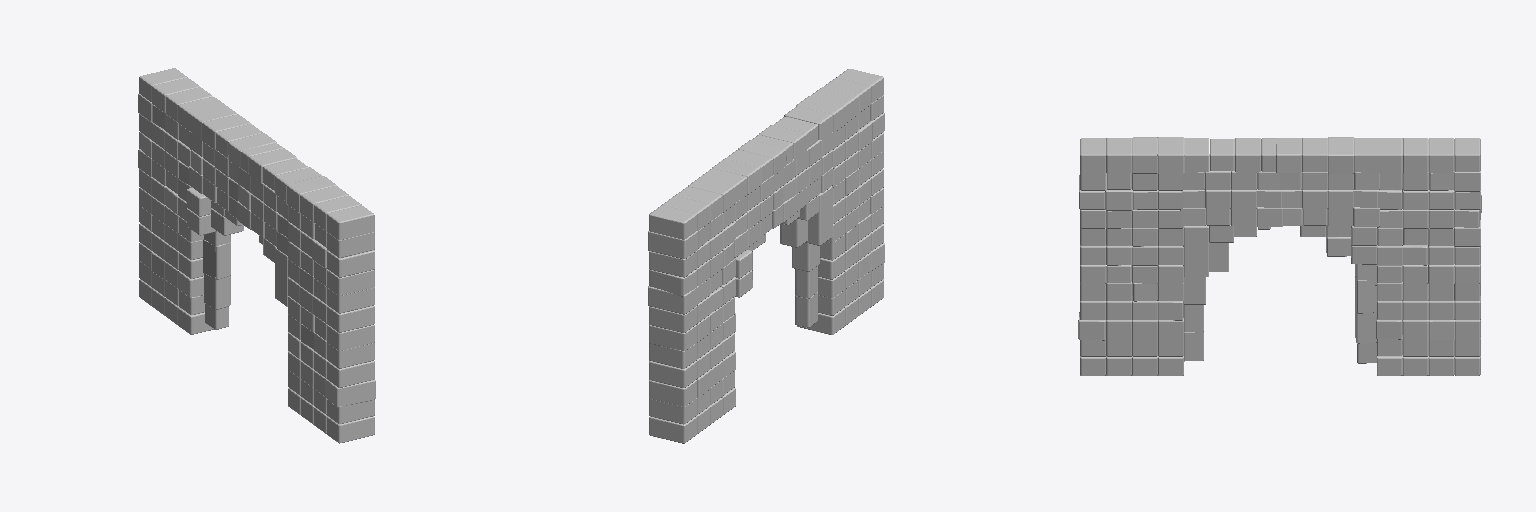
Rendered from wall.obj.
The picture shows the model from 3 angles: view 1: azimuth 30°, elevation 25°; view 2: azimuth 150°, elevation 25°; view 3: azimuth 270°, elevation 25°; orthographic projection.
Parts seen in each view (by area): view 1: Cube.029; view 2: Cube.029; view 3: Cube.029.
Boxes of the visible parts, x1=… form: Cube.029: x1=138, y1=68, x2=375, y2=443; Cube.029: x1=648, y1=69, x2=884, y2=443; Cube.029: x1=1078, y1=137, x2=1481, y2=375.
Size of the model in its own units: 1.84 by 9.33 by 15.35.